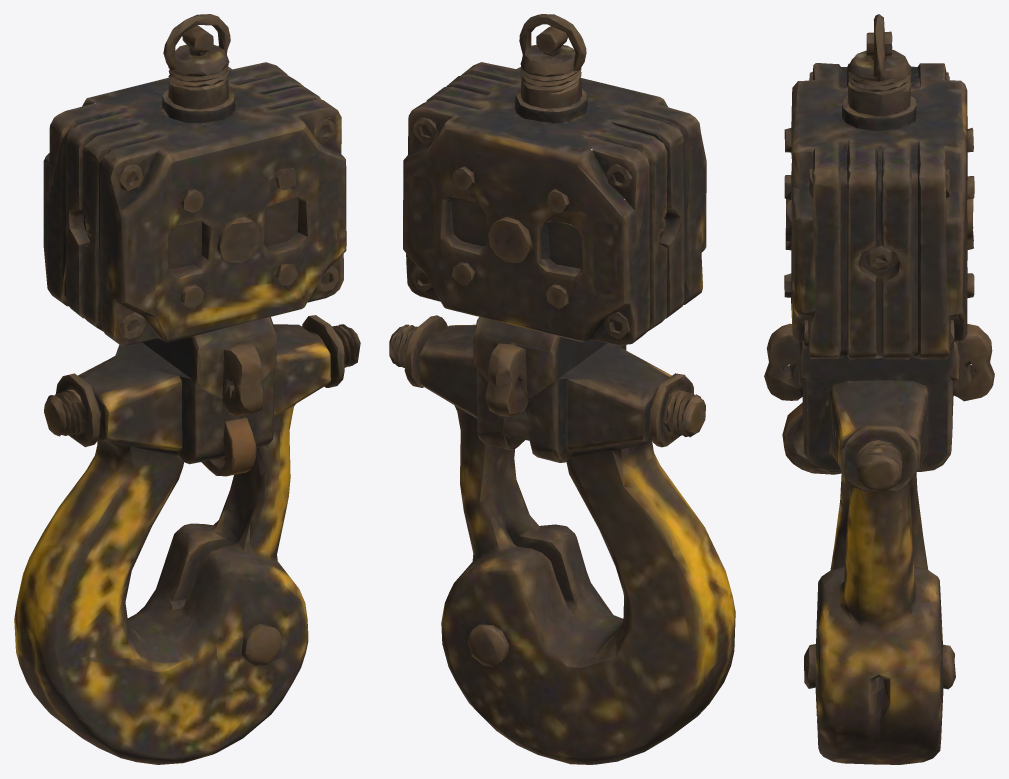
File: crane_hook_block.glb
3 renders of one model, left to right at view 1: azimuth 30°, elevation 25°; view 2: azimuth 150°, elevation 25°; view 3: azimuth 270°, elevation 25°, orthographic. The views are drawn at different scales.
Visible parts, largest first — view 1: main; view 2: main; view 3: main.
Boxes of the visible parts, <box> form: main: <box>14,14,360,764</box>; main: <box>389,14,735,764</box>; main: <box>764,14,994,764</box>.
Bounding box in the file's own units: 0.4263 × 0.8989 × 0.252.
Materials: 1 (1 with a texture image).
